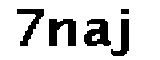7: (13, 4, 46, 50)
a: (82, 16, 115, 50)
j: (108, 6, 139, 60)
n: (46, 15, 80, 52)
